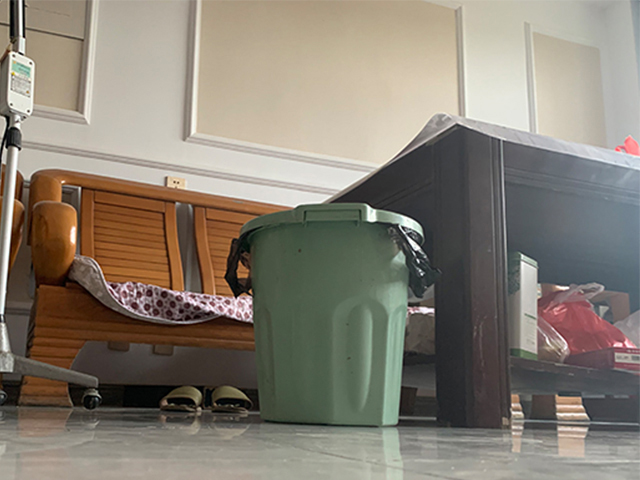slippers: (207, 383, 254, 415), (157, 385, 204, 417)
sofa: (17, 166, 284, 407)
table: (328, 114, 640, 431)
trashcan: (238, 202, 424, 428)
